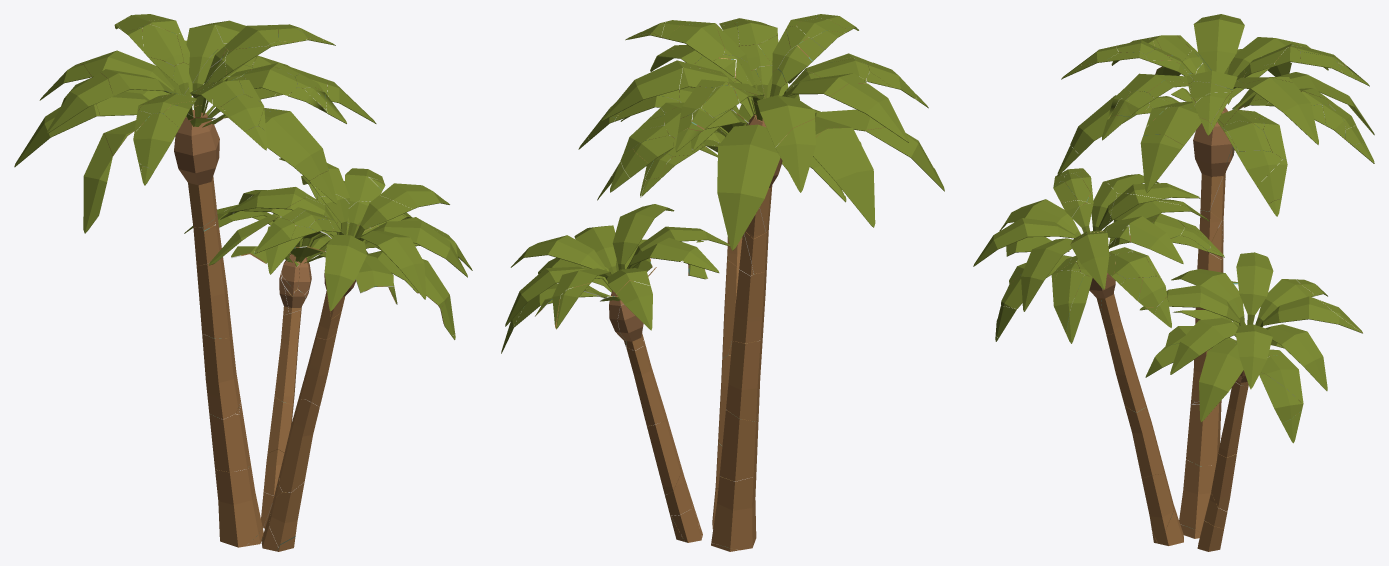
The model's file is triple_palm.fbx.
3 renders of one model, left to right at view 1: azimuth 30°, elevation 25°; view 2: azimuth 150°, elevation 25°; view 3: azimuth 270°, elevation 25°, orthographic. The views are drawn at different scales.
Visible parts, largest first — view 1: TriplePalms_cell.004, TriplePalms_cell.006_cell.015, TriplePalms_cell.020_cell.001, TriplePalms_cell.006_cell.003, TriplePalms_cell.047_cell.007, TriplePalms_cell.006_cell.009, TriplePalms_cell.059, TriplePalms_cell.006_cell, TriplePalms_cell.058, TriplePalms_cell.001, TriplePalms_cell.048_cell.018, TriplePalms_cell.028_cell.010 (+30 smaller); view 2: TriplePalms_cell.002, TriplePalms_cell.005, TriplePalms_cell.006_cell.015, TriplePalms_cell.006_cell.003, TriplePalms_cell.006_cell, TriplePalms_cell.006_cell.009, TriplePalms_cell.069, TriplePalms_cell.010, TriplePalms_cell.016, TriplePalms_cell.011, TriplePalms_cell.048_cell.018, TriplePalms_cell.040 (+31 smaller); view 3: TriplePalms_cell.033_cell.001, TriplePalms_cell.004, TriplePalms_cell.015, TriplePalms_cell.069, TriplePalms_cell.006_cell.015, TriplePalms_cell.034, TriplePalms_cell.006_cell, TriplePalms_cell.039, TriplePalms_cell.037, TriplePalms_cell.057, TriplePalms_cell.047_cell.008, TriplePalms_cell.047_cell.007 (+43 smaller).
Boxes of the visible parts, x1,y1,x2,y2 form: TriplePalms_cell.004: [174, 110, 219, 227]; TriplePalms_cell.006_cell.015: [215, 463, 262, 547]; TriplePalms_cell.020_cell.001: [259, 110, 328, 180]; TriplePalms_cell.006_cell.003: [202, 332, 240, 419]; TriplePalms_cell.047_cell.007: [279, 399, 319, 492]; TriplePalms_cell.006_cell.009: [196, 257, 231, 338]; TriplePalms_cell.059: [324, 234, 366, 311]; TriplePalms_cell.006_cell: [209, 402, 250, 472]; TriplePalms_cell.058: [356, 231, 426, 299]; TriplePalms_cell.001: [83, 133, 112, 233]; TriplePalms_cell.048_cell.018: [274, 309, 301, 404]; TriplePalms_cell.028_cell.010: [133, 113, 179, 170]; TriplePalms_cell.002: [717, 124, 780, 250]; TriplePalms_cell.005: [813, 127, 875, 227]; TriplePalms_cell.006_cell.015: [711, 467, 756, 550]; TriplePalms_cell.006_cell.003: [726, 335, 762, 421]; TriplePalms_cell.006_cell: [719, 410, 758, 481]; TriplePalms_cell.006_cell.009: [732, 260, 767, 343]; TriplePalms_cell.069: [602, 60, 699, 121]; TriplePalms_cell.010: [830, 83, 908, 142]; TriplePalms_cell.016: [757, 95, 814, 147]; TriplePalms_cell.011: [775, 119, 815, 192]; TriplePalms_cell.048_cell.018: [626, 337, 667, 426]; TriplePalms_cell.040: [612, 204, 674, 269]; TriplePalms_cell.033_cell.001: [1199, 343, 1243, 422]; TriplePalms_cell.004: [1193, 107, 1234, 211]; TriplePalms_cell.015: [1193, 18, 1244, 73]; TriplePalms_cell.069: [1242, 77, 1318, 144]; TriplePalms_cell.006_cell.015: [1179, 459, 1215, 532]; TriplePalms_cell.034: [1236, 252, 1273, 324]; TriplePalms_cell.006_cell: [1186, 400, 1221, 465]; TriplePalms_cell.039: [1170, 318, 1238, 374]; TriplePalms_cell.037: [1265, 324, 1327, 390]; TriplePalms_cell.057: [1021, 238, 1072, 311]; TriplePalms_cell.047_cell.008: [1106, 330, 1145, 412]; TriplePalms_cell.047_cell.007: [1125, 400, 1165, 478].
Bounding box in the file's own units: 422 × 541 × 419.
